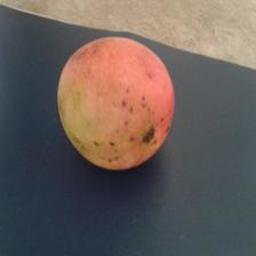Mango Semifresh: (55, 28, 178, 185)
